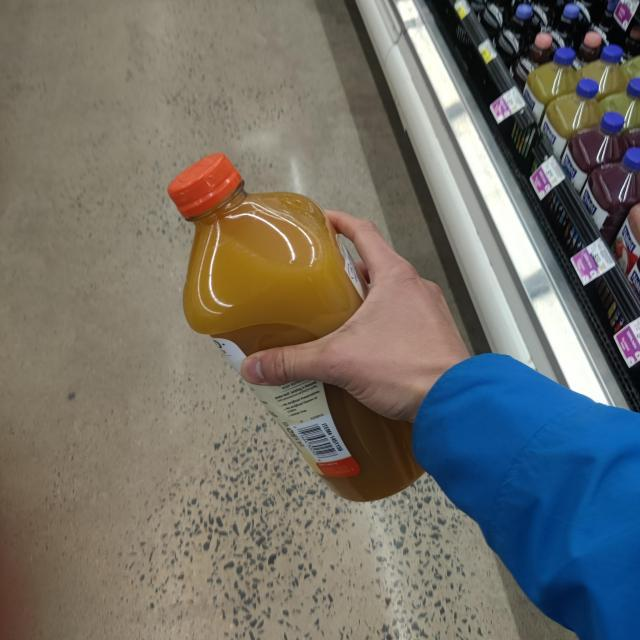Juice: (150, 149, 428, 517)
